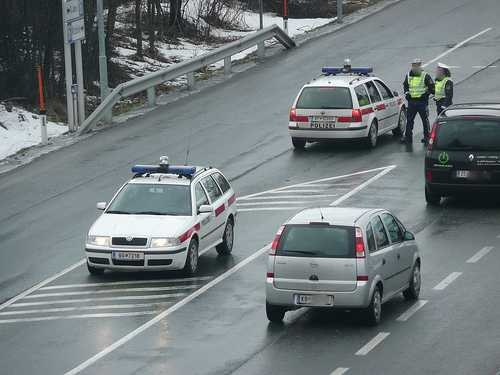Police Car: (81, 147, 244, 286), (283, 52, 414, 160)
